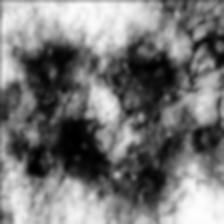Potentially Malignant Skin Tumors: (0, 41, 224, 208)
